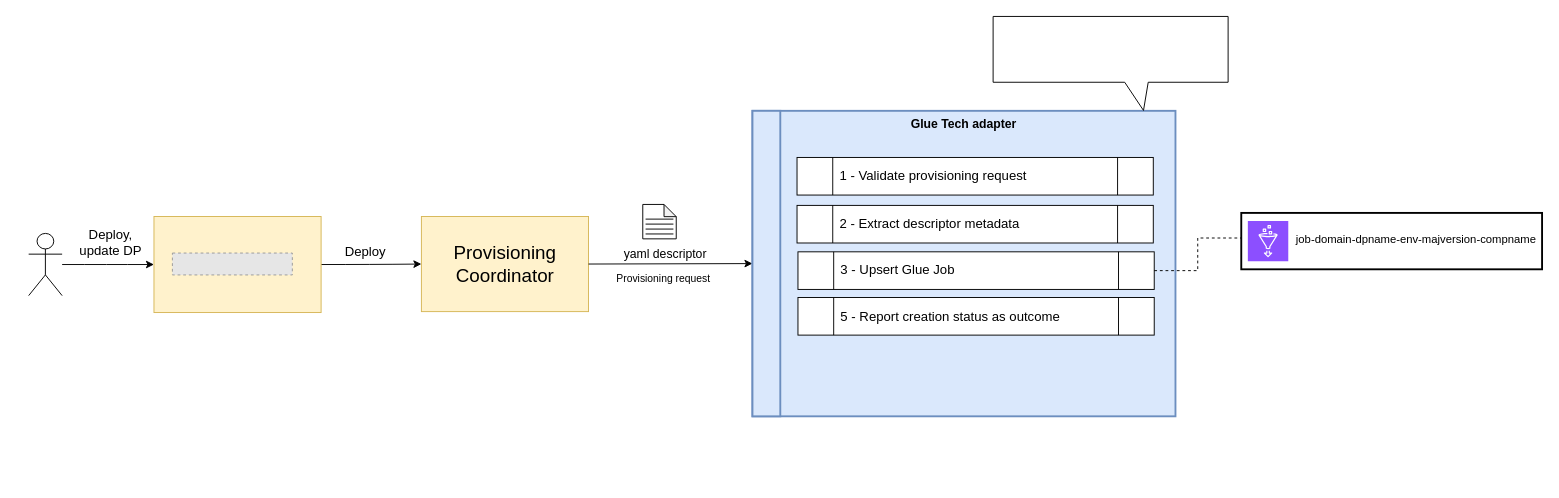
Image size: 1559x498. Some labels were removed from this diagram. Grey dashed boxes stand in for pictures. Each missing label, with the centre of its shape:
A P I: the point at 766,263
DP team: the point at 45,264
Idempotent, i.e. does not fail if something it provisions already exists: the point at 1110,63
